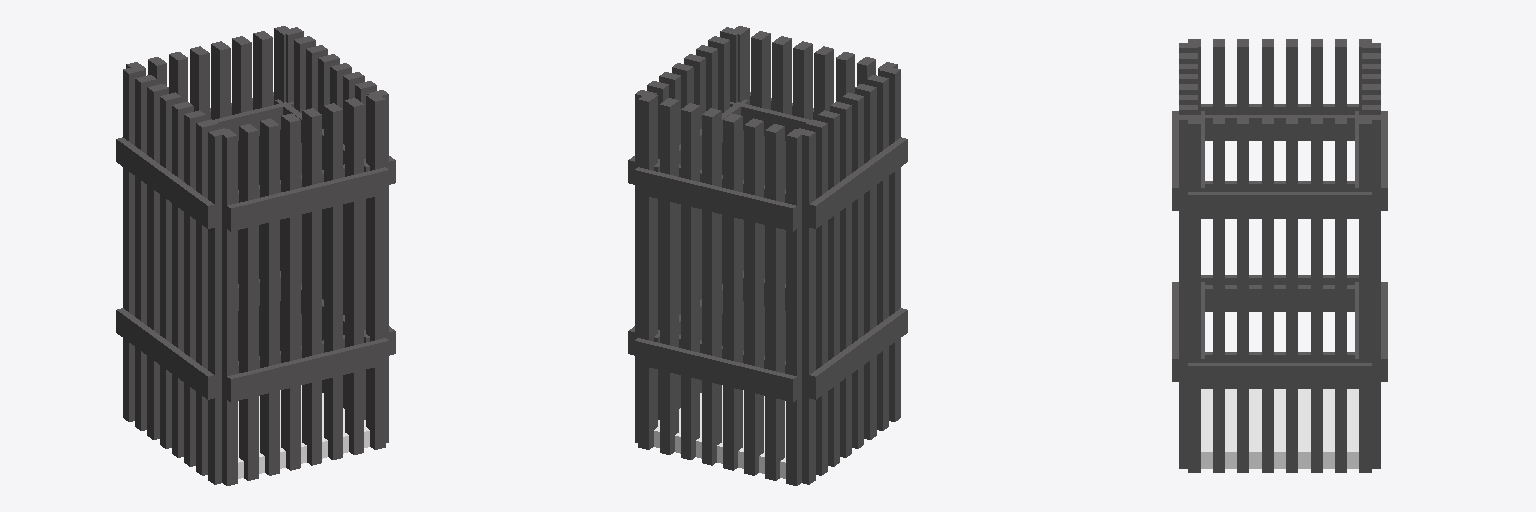
The model's file is garbage_bin.obj.
The picture shows the model from 3 angles: view 1: azimuth 30°, elevation 25°; view 2: azimuth 150°, elevation 25°; view 3: azimuth 270°, elevation 25°; orthographic projection.
Size of the model in its own units: 1.18 by 2.1 by 1.18.